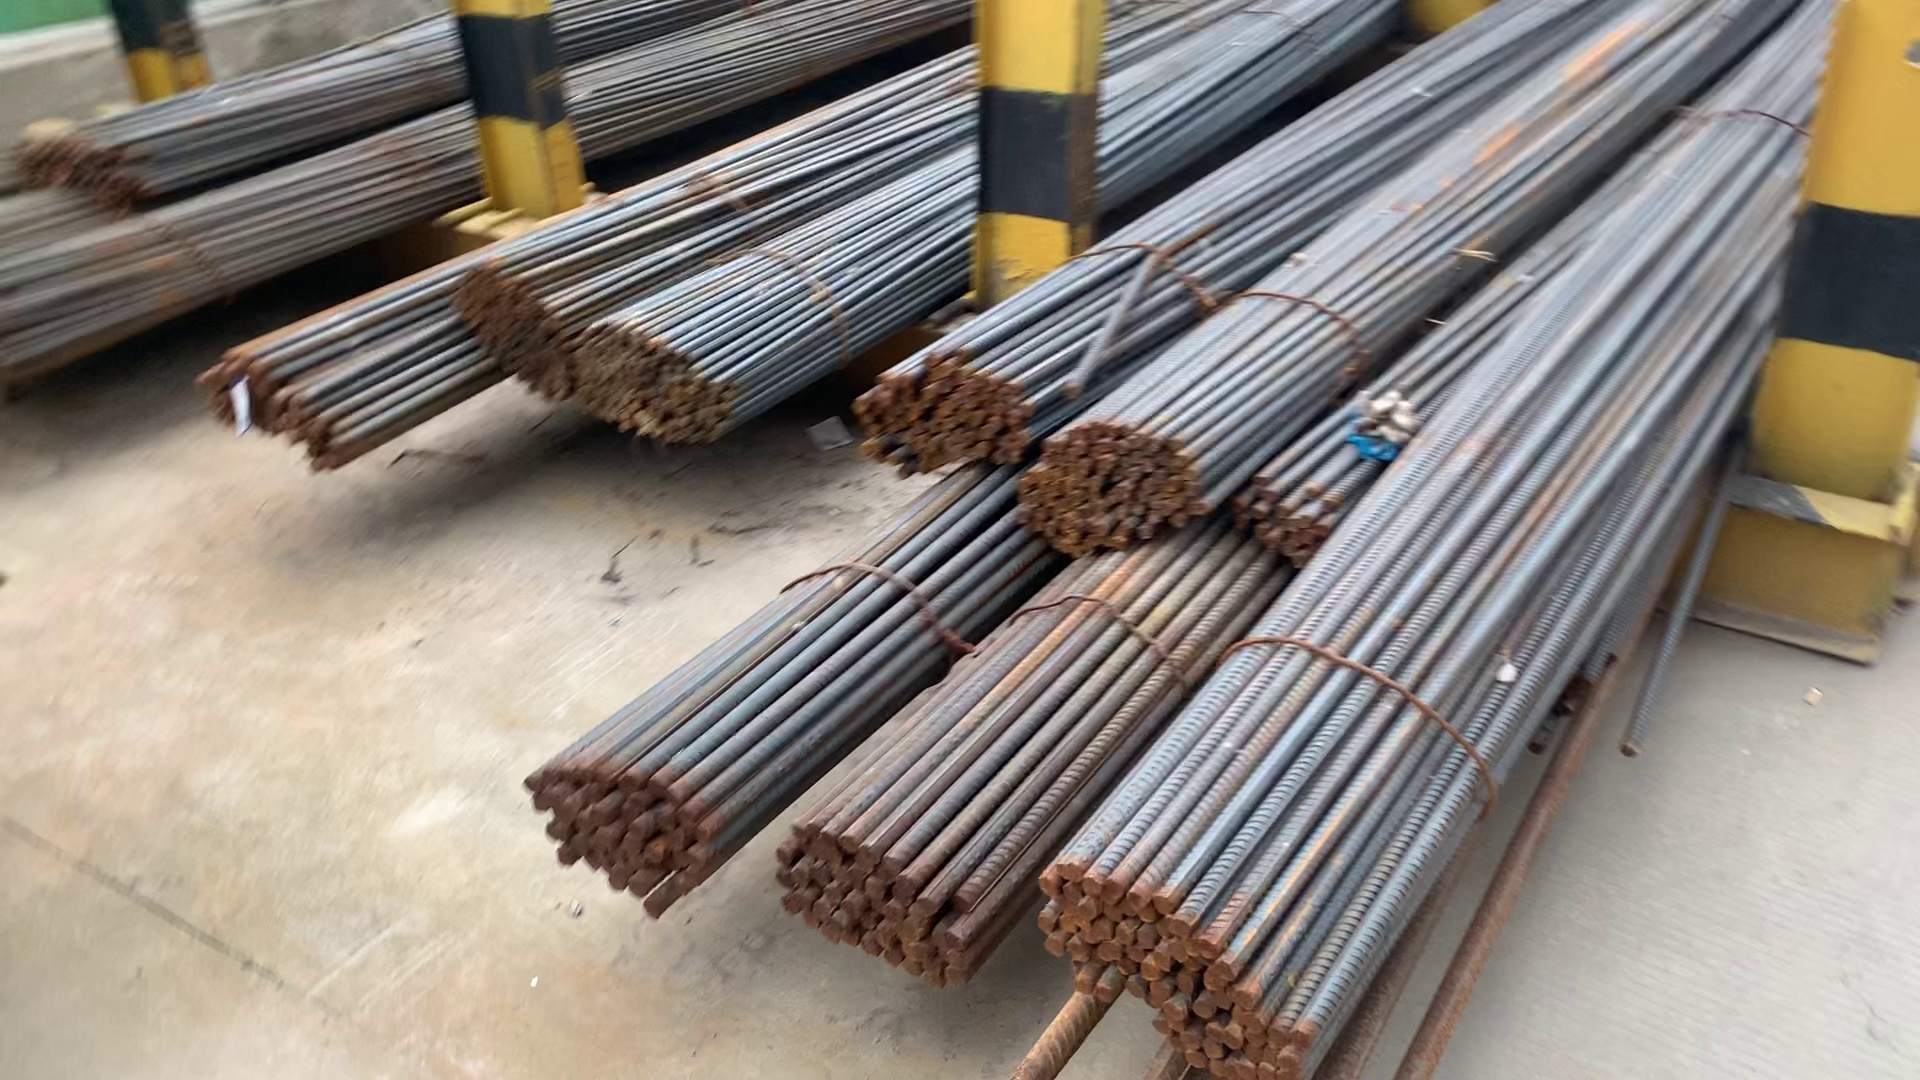rebar: (1022, 849, 1316, 1073), (771, 820, 978, 996), (527, 745, 727, 914), (1027, 423, 1207, 549), (835, 353, 1025, 468), (574, 320, 731, 444), (212, 343, 347, 464), (454, 272, 570, 404), (1238, 480, 1338, 575)
